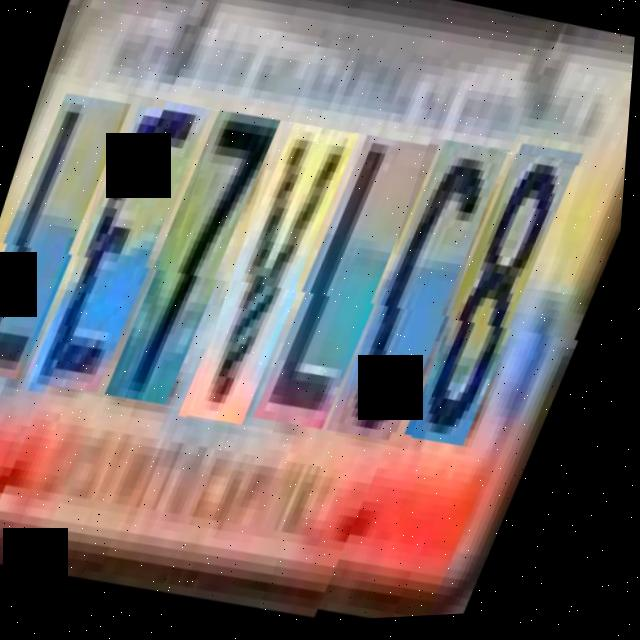7: (118, 106, 290, 418)
8: (414, 153, 589, 475)
C: (341, 138, 520, 462)
E: (40, 91, 221, 407)
L: (267, 133, 448, 450), (0, 77, 144, 383)
V: (192, 120, 371, 443)
